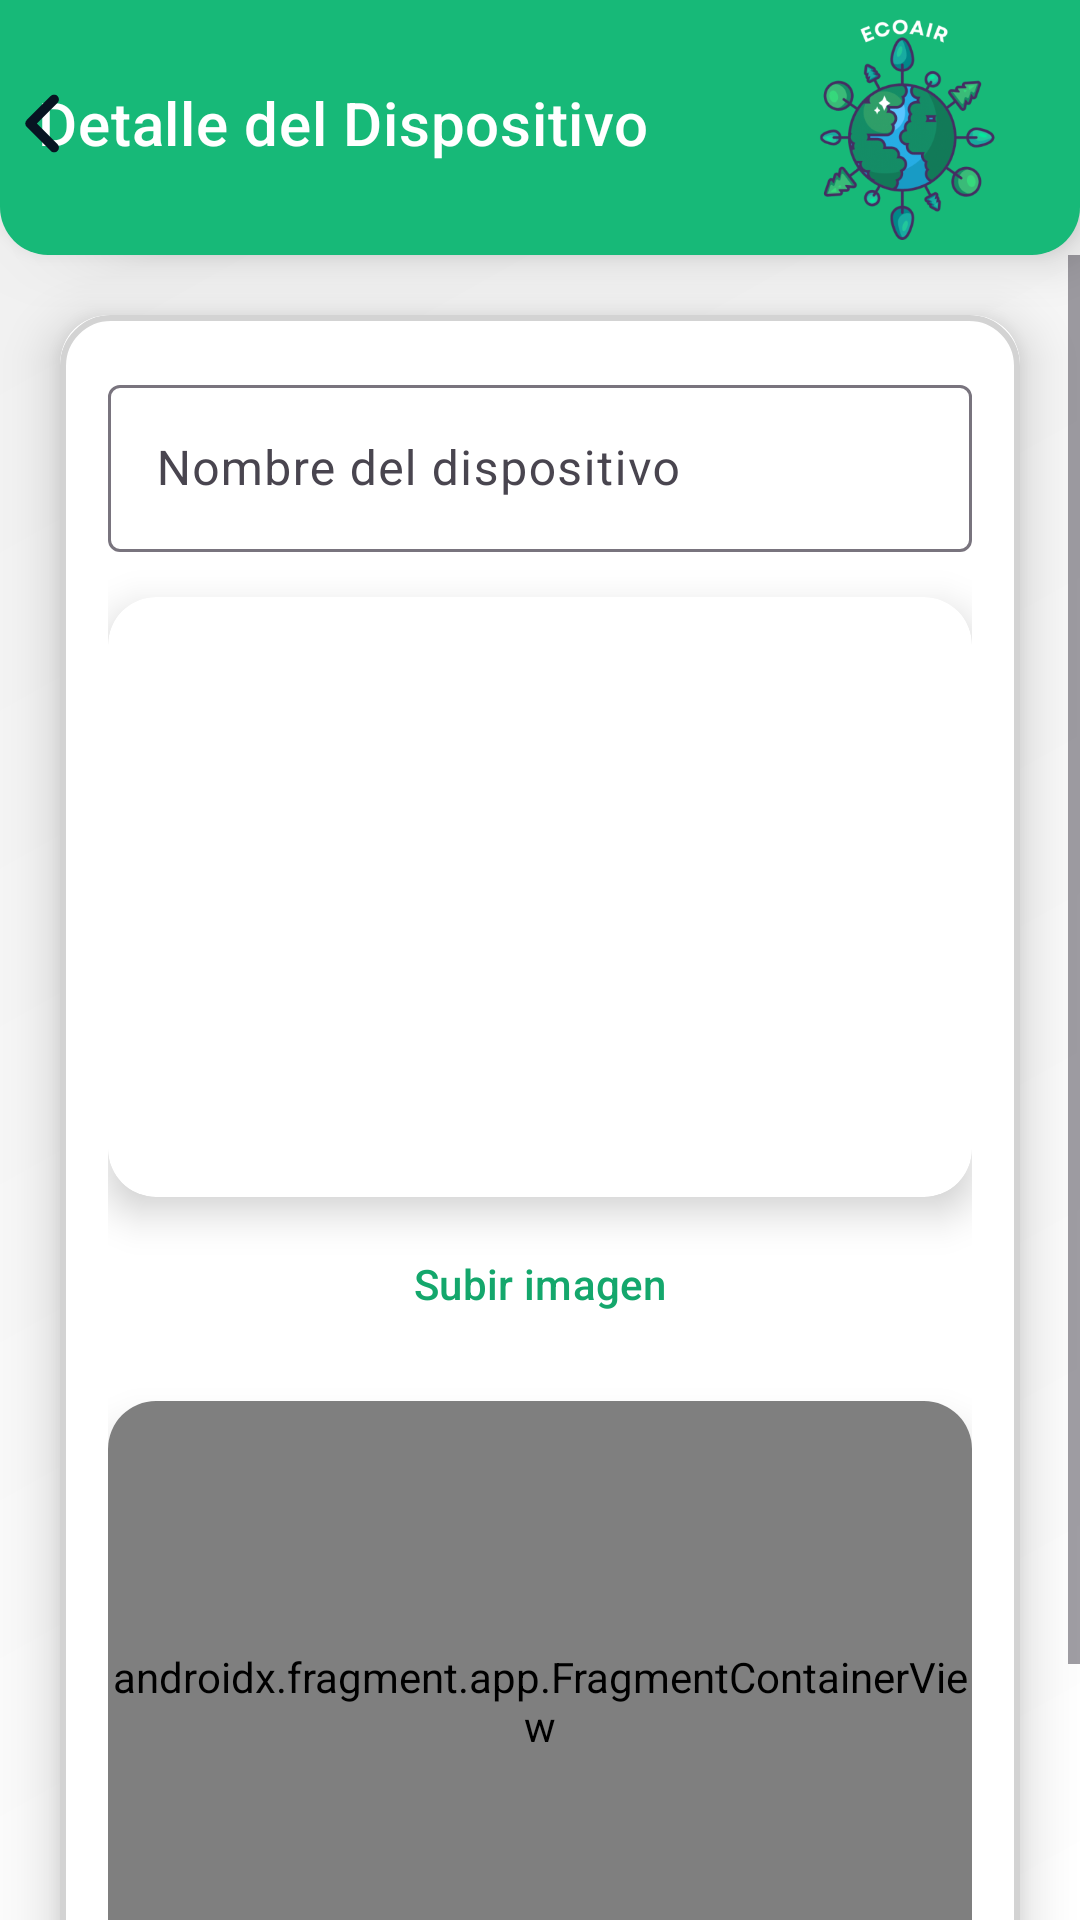

Icons on this 1080px×1920px Android screen, each with its box as bbox(x1, y1, x2, y2):
back: bbox(25, 94, 75, 153)
